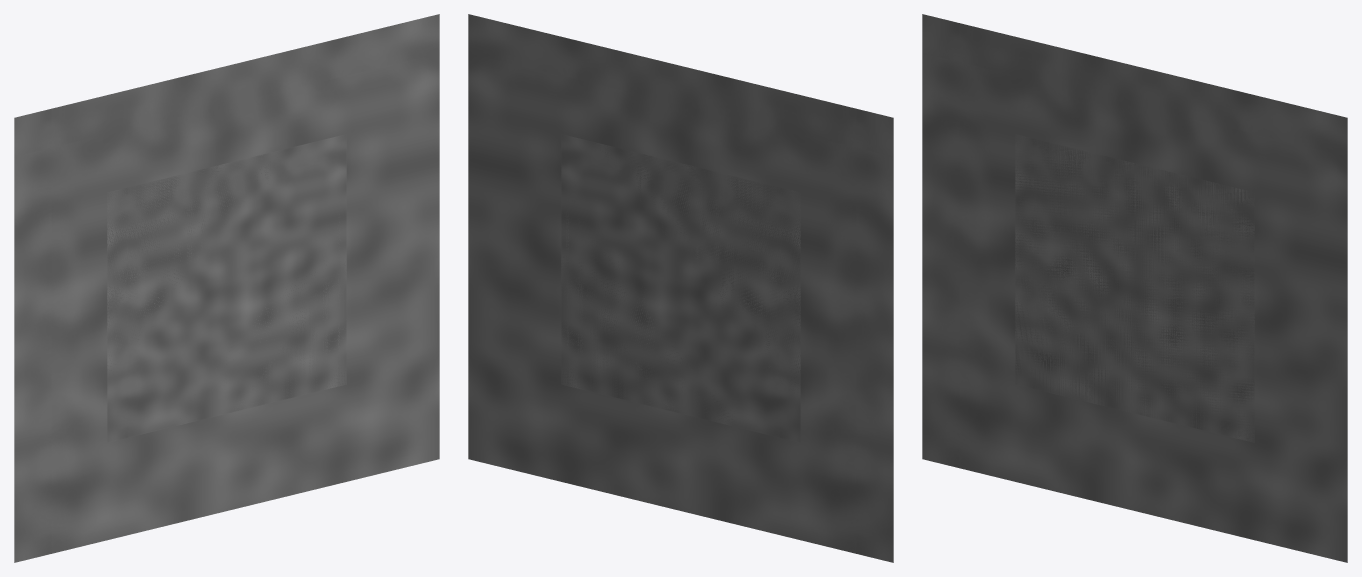
The model's file is SunPlane1.fbx.
3 renders of one model, left to right at view 1: azimuth 30°, elevation 25°; view 2: azimuth 150°, elevation 25°; view 3: azimuth 330°, elevation 25°, orthographic.
Visible parts, largest first — view 1: SunPlane2, SunPlane1; view 2: SunPlane2, SunPlane1; view 3: SunPlane2, SunPlane1.
Boxes of the visible parts, left/top/right/bottom form: SunPlane2: left=14, top=14, right=439, bottom=562; SunPlane1: left=107, top=134, right=346, bottom=442; SunPlane2: left=468, top=14, right=893, bottom=562; SunPlane1: left=561, top=134, right=800, bottom=442; SunPlane2: left=922, top=14, right=1347, bottom=562; SunPlane1: left=1015, top=134, right=1254, bottom=442.
Bounding box in the file's own units: 87.98 × 87.98 × 0.
1 material, 1 textured.
